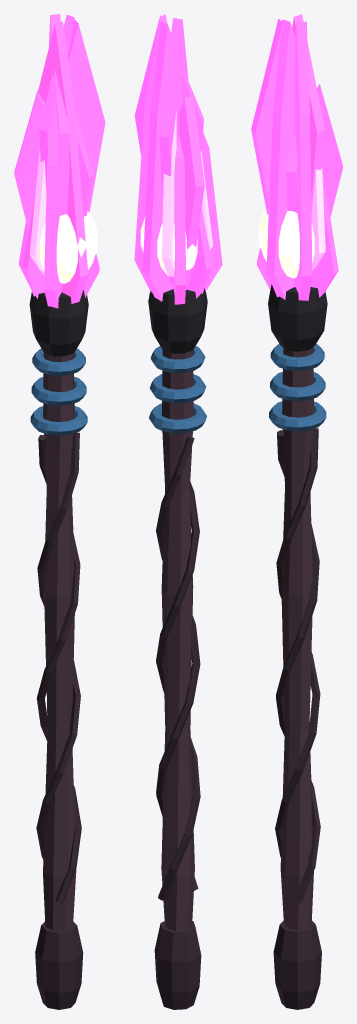
File: staff_coilflare.glb
3 views of the same model, side by side, from view 1: azimuth 90°, elevation 25°; view 2: azimuth 210°, elevation 25°; view 3: azimuth 270°, elevation 25° (orthographic).
Visible parts, largest first — view 1: Cf_Shaft, Cf_Flame4, Cf_Flame2, Cf_Butt, Cf_Twist0, Cf_Cup, Cf_Twist1, Cf_Flame3, Cf_Flame5, Cf_Core, Cf_Flame0, Cf_Flame6 (+5 smaller); view 2: Cf_Shaft, Cf_Flame0, Cf_Butt, Cf_Cup, Cf_Twist0, Cf_Flame5, Cf_Twist1, Cf_Flame4, Cf_Flame6, Cf_Flame1, Cf_Flame2, Cf_FlameIn0 (+6 smaller); view 3: Cf_Shaft, Cf_Flame6, Cf_Flame0, Cf_Butt, Cf_Cup, Cf_Twist1, Cf_Twist0, Cf_Flame2, Cf_Core, Cf_Flame5, Cf_Flame4, Cf_Flame1 (+5 smaller).
Part boxes in pixels (x1,y1,x2,y2): Cf_Shaft: (43, 352, 76, 930); Cf_Flame4: (38, 21, 88, 303); Cf_Flame2: (23, 20, 105, 298); Cf_Butt: (35, 921, 83, 1009); Cf_Twist0: (36, 432, 80, 859); Cf_Cup: (29, 290, 88, 356); Cf_Twist1: (36, 435, 81, 903); Cf_Flame3: (44, 109, 61, 308); Cf_Flame5: (14, 91, 99, 297); Cf_Core: (39, 211, 97, 283); Cf_Flame0: (49, 14, 69, 284); Cf_Flame6: (39, 15, 74, 190); Cf_Shaft: (161, 350, 194, 930); Cf_Flame0: (142, 21, 188, 301); Cf_Butt: (154, 921, 201, 1009); Cf_Cup: (148, 288, 207, 353); Cf_Twist0: (156, 431, 200, 900); Cf_Flame5: (179, 96, 204, 289); Cf_Twist1: (156, 436, 200, 890); Cf_Flame4: (159, 18, 188, 284); Cf_Flame6: (134, 15, 203, 292); Cf_Flame1: (173, 134, 186, 304); Cf_Flame2: (134, 14, 212, 298); Cf_FlameIn0: (162, 109, 176, 276); Cf_Shaft: (280, 347, 313, 930); Cf_Flame6: (266, 19, 294, 299); Cf_Flame0: (295, 21, 312, 300); Cf_Butt: (273, 921, 321, 1009); Cf_Cup: (268, 284, 327, 351); Cf_Twist1: (275, 428, 320, 857); Cf_Twist0: (276, 430, 320, 902); Cf_Flame2: (251, 18, 283, 214); Cf_Core: (258, 209, 314, 278); Cf_Flame5: (257, 84, 342, 289); Cf_Flame4: (292, 14, 324, 214); Cf_Flame1: (310, 169, 338, 297).
Bounding box in the file's own units: 0.2052 × 2.52 × 0.2121.
